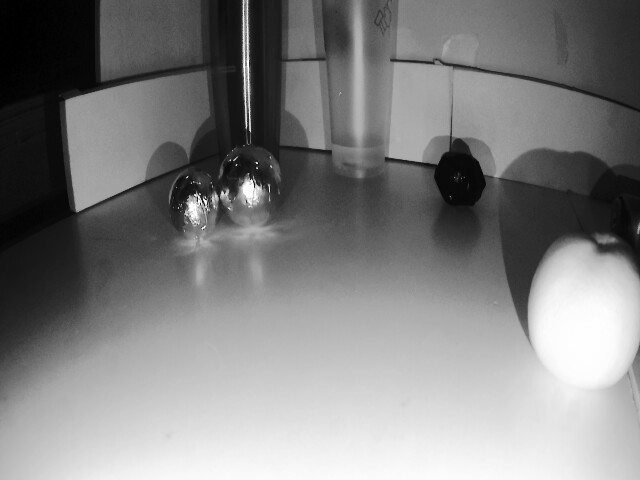black: (436, 147, 479, 206)
silver: (212, 146, 281, 221), (165, 168, 222, 247)
